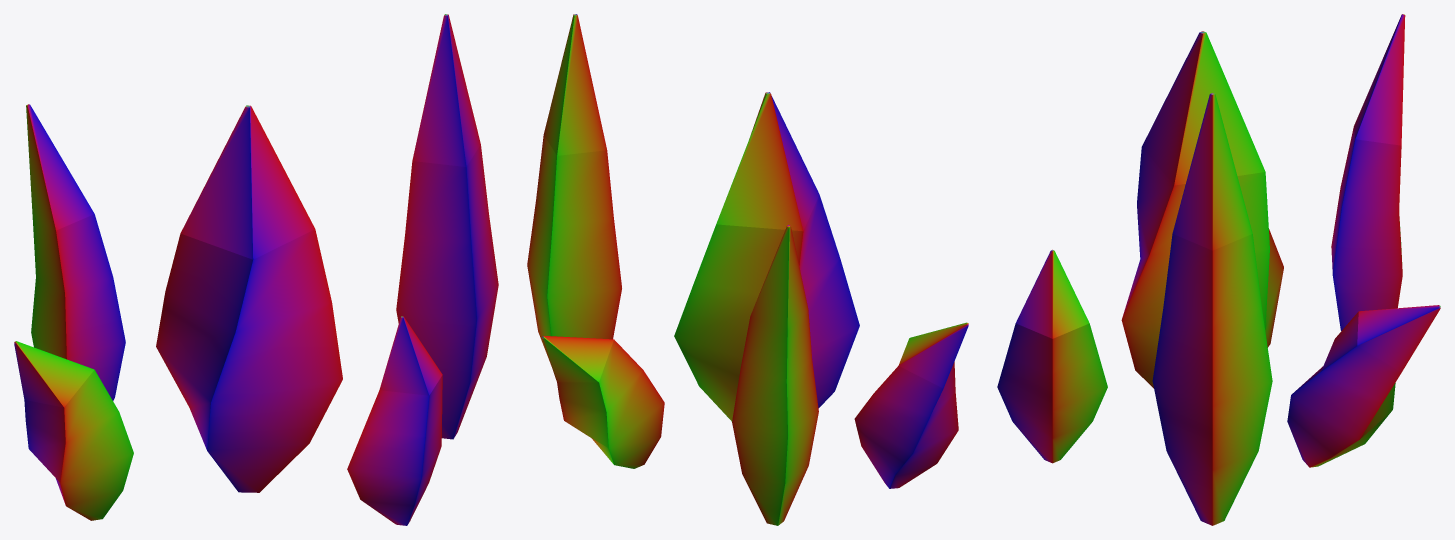
File: SM_Grass_Clump_02.fbx
3 views of the same model, side by side, from view 1: azimuth 30°, elevation 25°; view 2: azimuth 150°, elevation 25°; view 3: azimuth 270°, elevation 25° (orthographic). The views are drawn at different scales.
Parts seen in each view (by area): view 1: grass_clump_02_geo; view 2: grass_clump_02_geo; view 3: grass_clump_02_geo.
Boxes of the visible parts, x1=… form: grass_clump_02_geo: x1=14, y1=14, x2=498, y2=525; grass_clump_02_geo: x1=527, y1=14, x2=968, y2=525; grass_clump_02_geo: x1=997, y1=14, x2=1440, y2=525.
Size of the model in its own units: 114 by 95.78 by 89.6.
